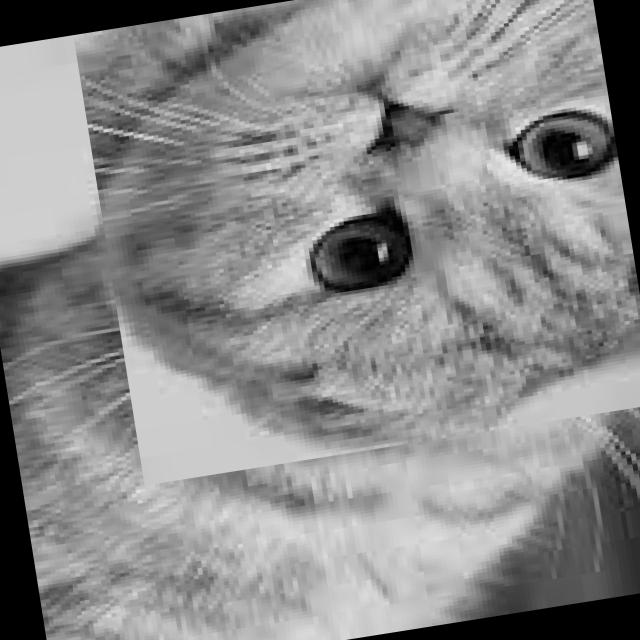scootish: (73, 0, 640, 485)
